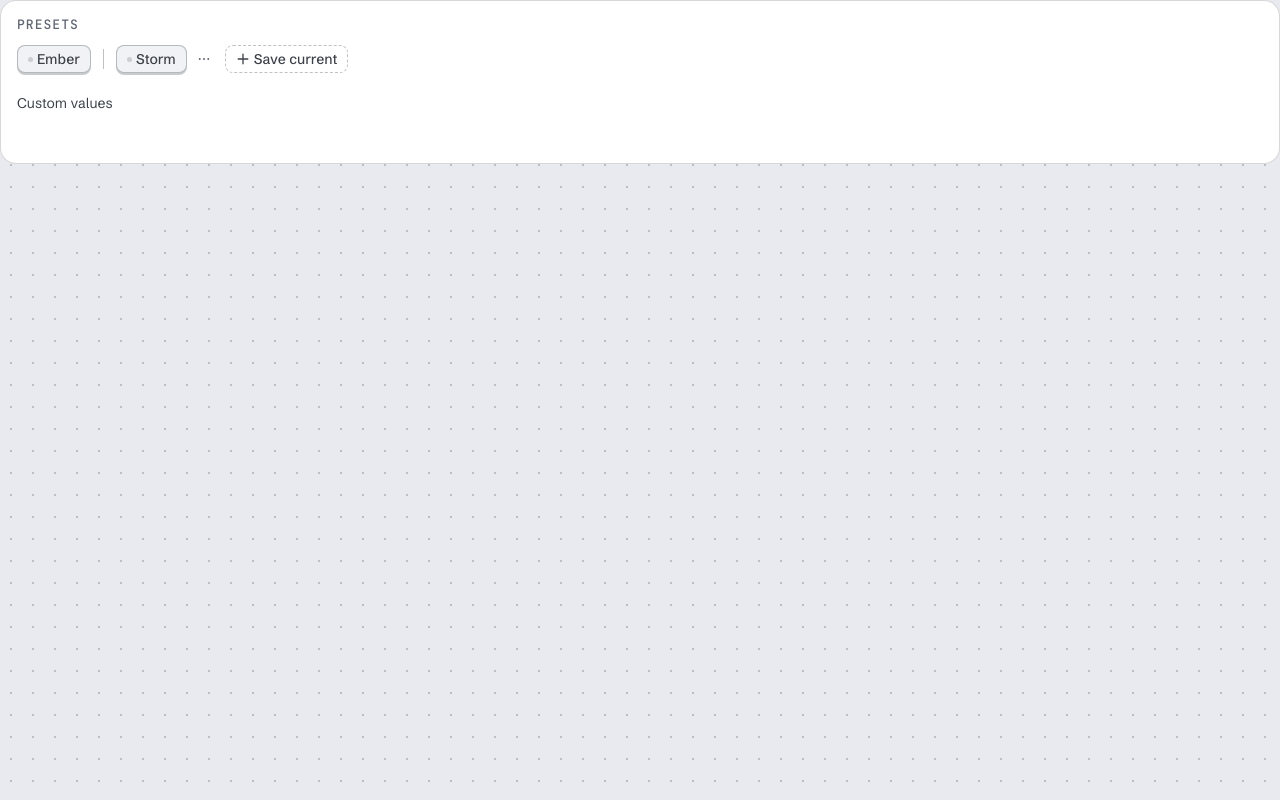
PresetStrip › opens the menu of a user key: Rename, Duplicate, Delete; and not of a built-in key
The image size is (1280, 800).
Step 1. Click the button named "Actions for Storm" → (203, 59), box [189, 45, 217, 73]
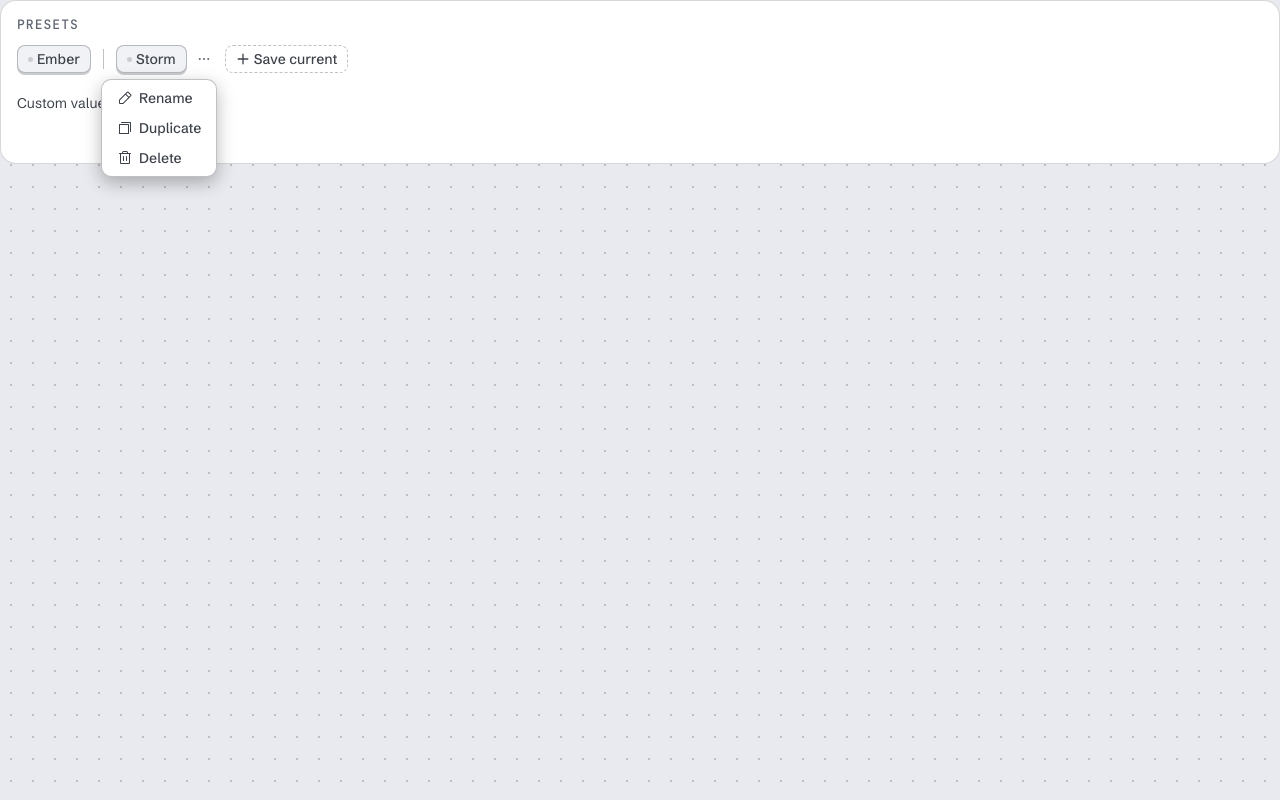
Now the button "Rename" is shown, box [106, 84, 212, 112]
Now the button "Duplicate" is shown, box [106, 114, 212, 142]
Now the button "Delete" is shown, box [106, 144, 212, 172]
